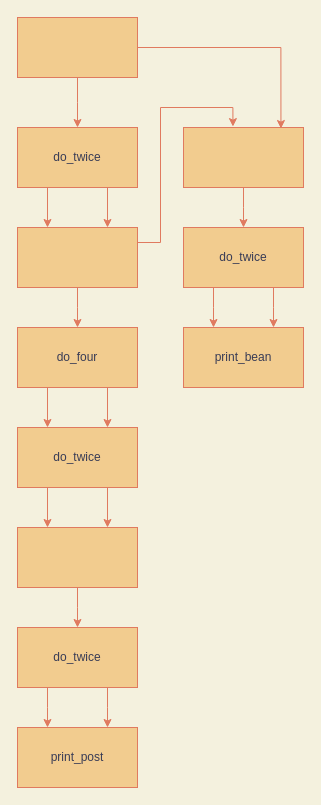
Some shapes in this 321 by 805 pixel diagram are drawn without their labels. The centre of each missing label's shape, as x and y in pixels:
"print_beams" belongs at [243,157].
"print_grid" belongs at [77,47].
"print_posts" belongs at [77,557].
"print_row" belongs at [77,257].
